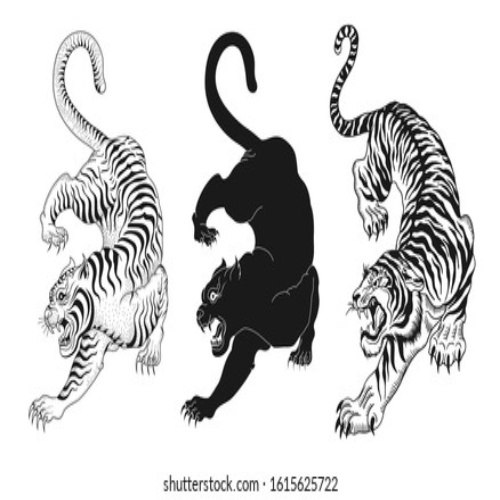tiger: (310, 14, 468, 469)
